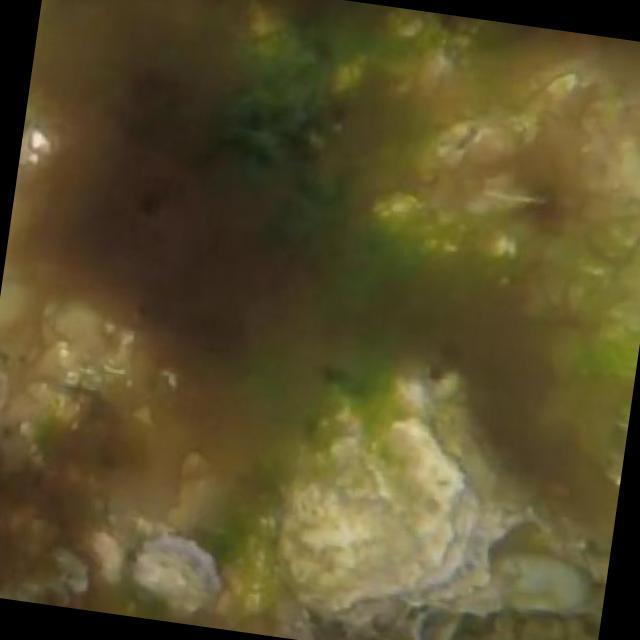Oyster- Indeterminate: (287, 417, 503, 630), (33, 313, 205, 412), (412, 100, 532, 184), (369, 179, 437, 257), (463, 235, 530, 292), (459, 177, 539, 223)
Oyster-Open: (125, 530, 245, 618)
